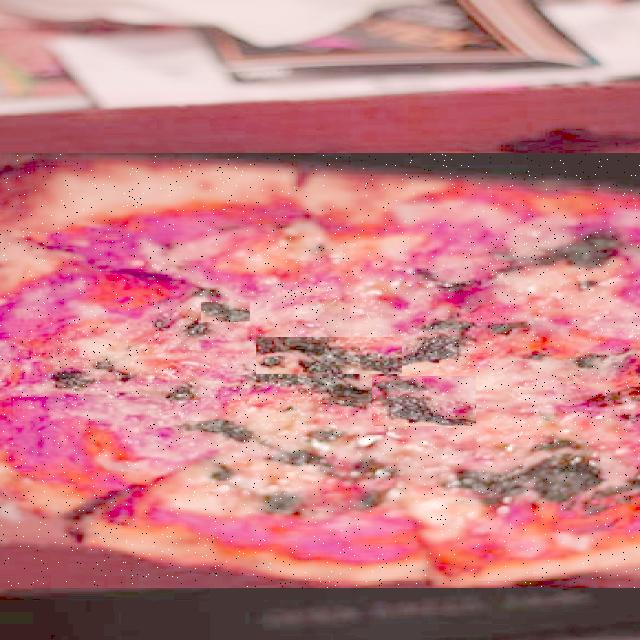Basil: (437, 448, 614, 506), (460, 234, 603, 276), (256, 338, 402, 376), (372, 376, 476, 426), (277, 279, 343, 310), (51, 349, 91, 375), (202, 302, 252, 322)
Pizza: (0, 154, 640, 588)
